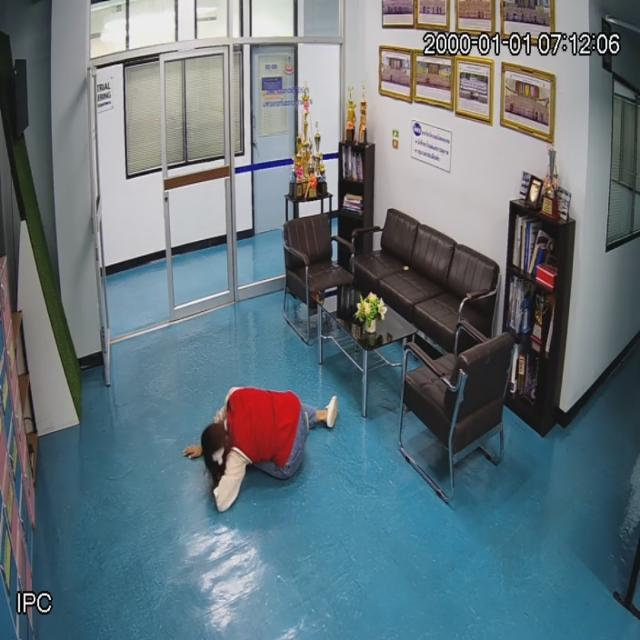fall: (188, 379, 344, 517)
